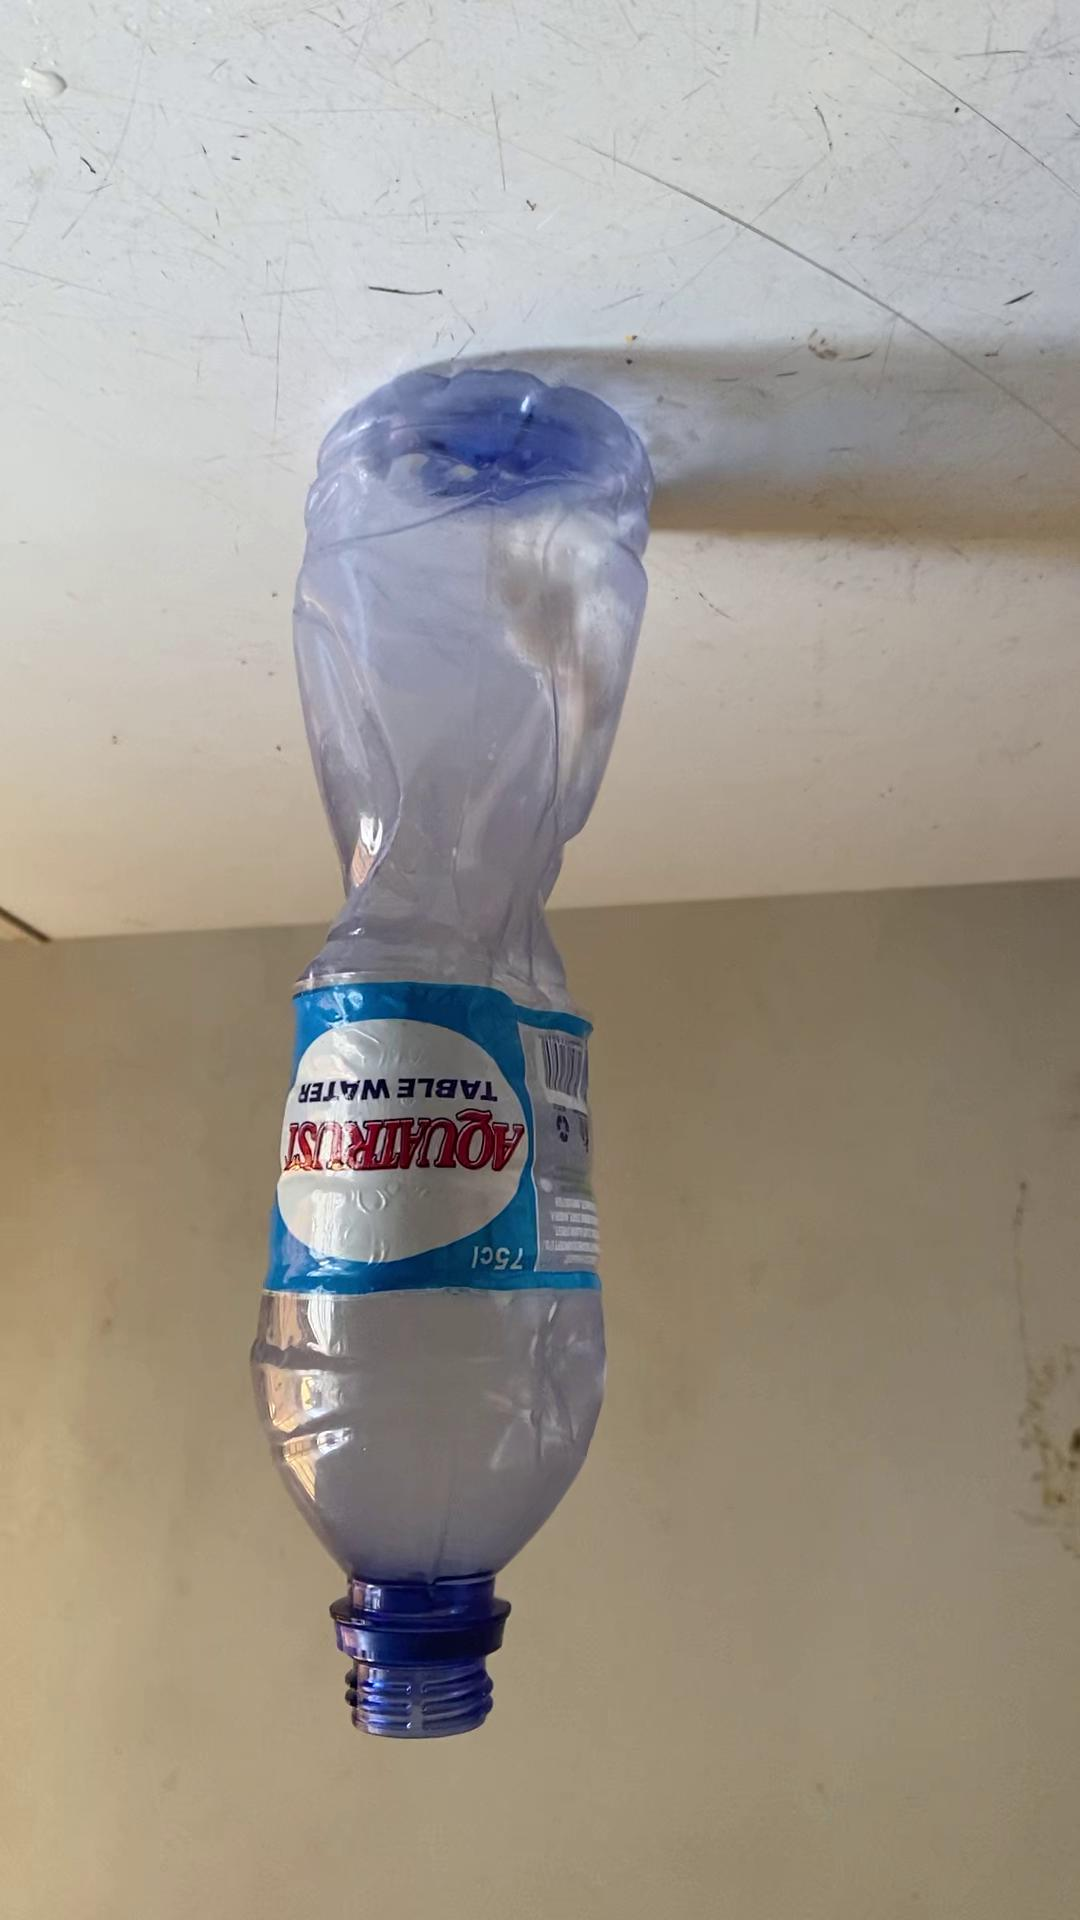crumbled: (248, 356, 666, 1741)
label: (266, 978, 600, 1299)
no-cap: (336, 1626, 506, 1743)
